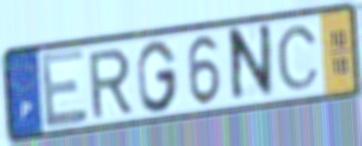6: (185, 33, 224, 108)
C: (274, 23, 322, 92)
E: (37, 45, 90, 132)
G: (135, 38, 180, 116)
N: (229, 20, 276, 108)
R: (86, 45, 135, 121)
